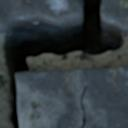brick: (16, 67, 127, 127)
broken_brick: (0, 0, 80, 33), (102, 0, 127, 33)
crack: (0, 0, 126, 127)
